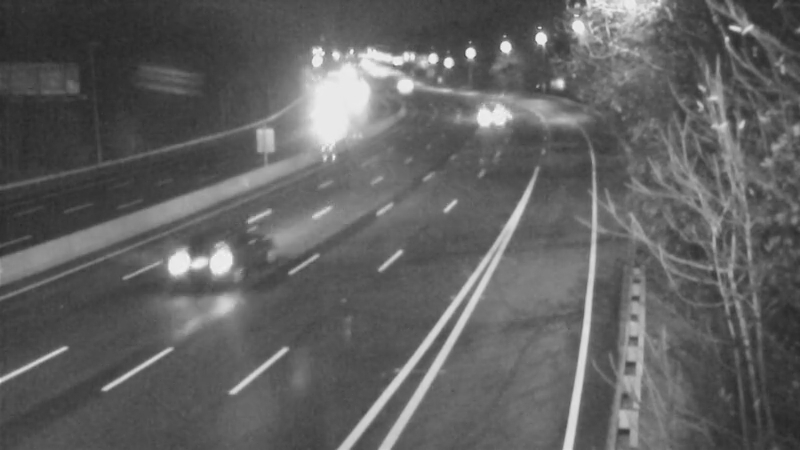vehicle: (156, 227, 236, 307), (377, 60, 427, 110), (463, 89, 513, 139)
